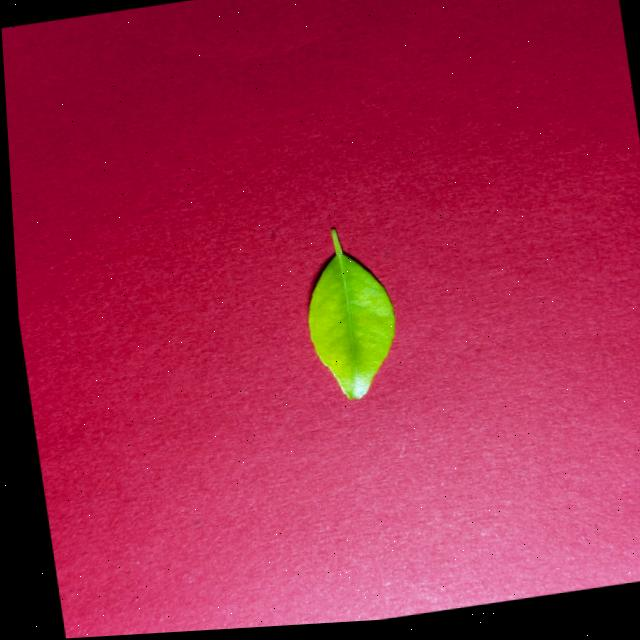greening: (307, 228, 393, 398)
